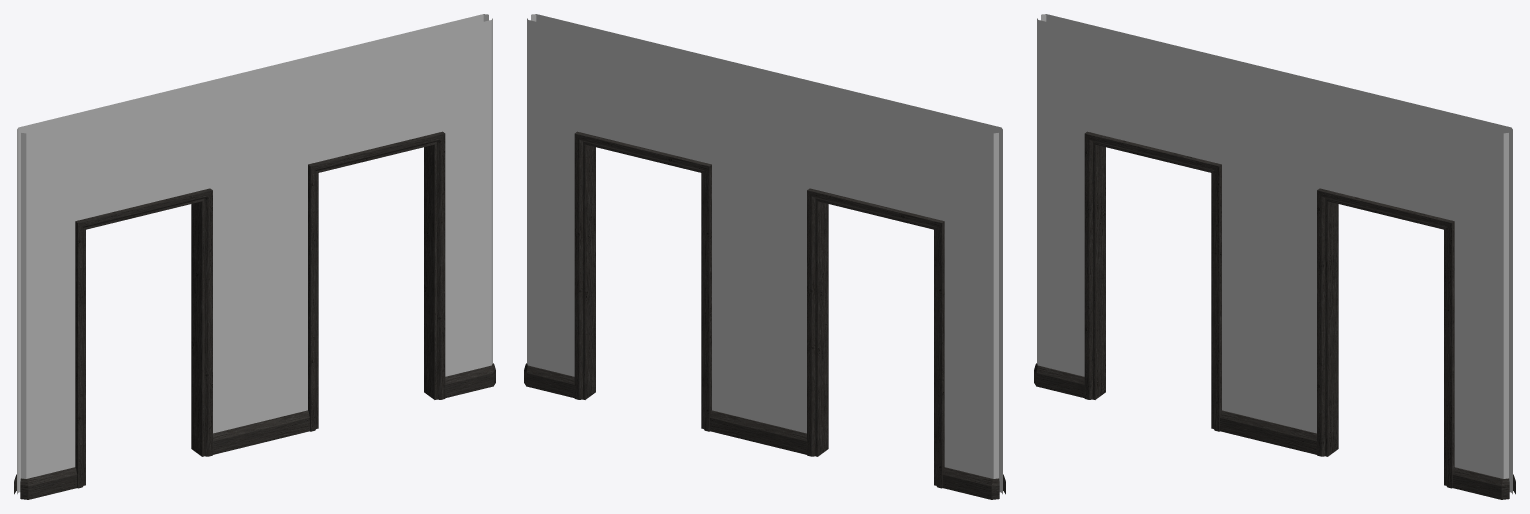
Rendered from double_single_doorway_2_1.fbx.
3 renders of one model, left to right at view 1: azimuth 30°, elevation 25°; view 2: azimuth 150°, elevation 25°; view 3: azimuth 330°, elevation 25°, orthographic.
Visible parts, largest first — view 1: double_single_doorway_2_1; view 2: double_single_doorway_2_1; view 3: double_single_doorway_2_1.
Boxes of the visible parts, bbox=[...] form: double_single_doorway_2_1: bbox=[14, 14, 495, 499]; double_single_doorway_2_1: bbox=[524, 14, 1005, 499]; double_single_doorway_2_1: bbox=[1034, 14, 1515, 499].
Size of the model in its own units: 4.09 by 3 by 0.2.
